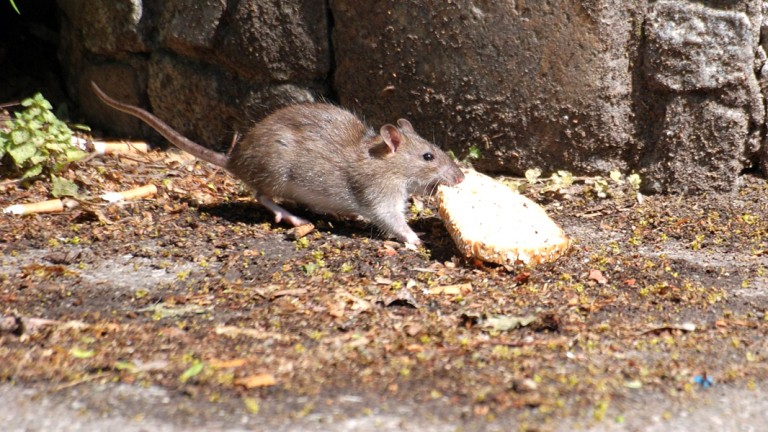rat: (80, 62, 466, 269)
